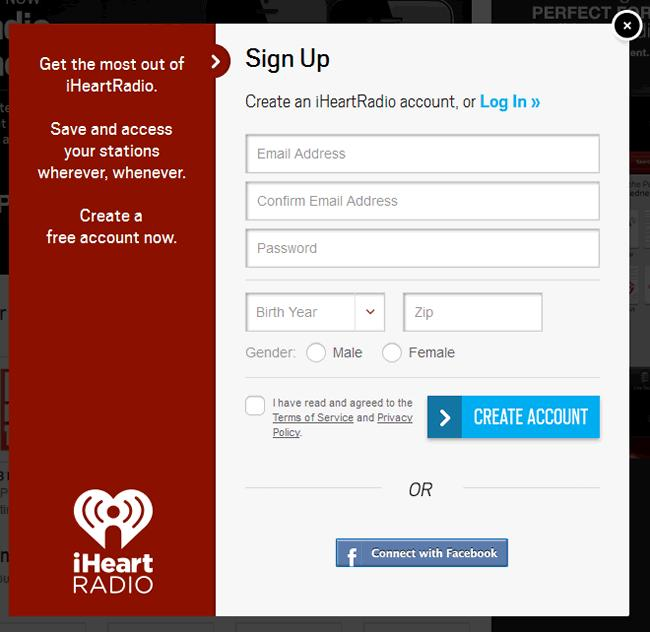button: (418, 393, 611, 456), (321, 527, 517, 586)
checkbox: (238, 384, 415, 447), (238, 389, 271, 421)
dropdown: (233, 286, 392, 331)
radiobutton: (375, 338, 467, 371), (301, 339, 371, 367)
textbox: (240, 128, 605, 180)
